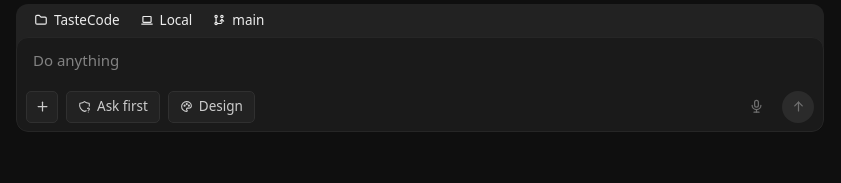
Test: Composer voice dictation › hides mode controls but keeps file attachments working during dictation
Click the button named "Record voice note" at (756, 107), box [740,91,772,123]
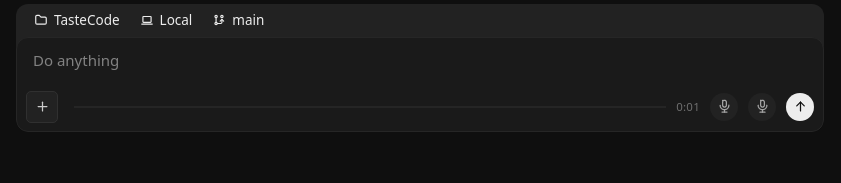
Now the button named "Stop and transcribe voice note" is shown, box [748,93,776,121]
Now the button "Permissions" is gone
Now the button "Design" is gone
Click the button named "Attach files" at (42, 107), box [26,91,58,123]
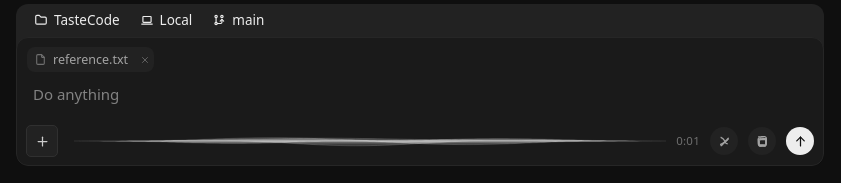
Now the text "reference.txt" is shown, box [53,50,128,69]
Click the button named "Transcribe and send voice note" at (800, 141), box [786,127,814,155]
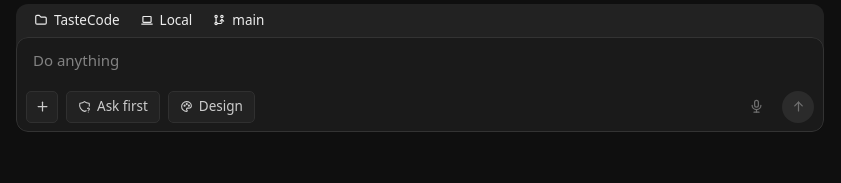
Now the button with aria-label "Permissions" is shown, box [66,91,160,123]
Now the button "Design" is shown, box [168,91,255,123]
